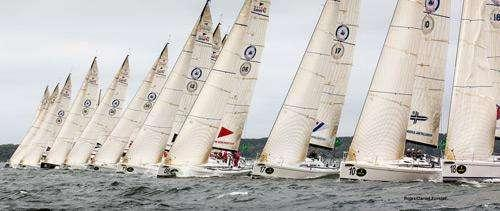fanchuan: (336, 1, 450, 183), (112, 1, 225, 179), (251, 1, 361, 181), (158, 1, 260, 180), (83, 41, 174, 173), (438, 1, 500, 179), (60, 54, 133, 179), (36, 56, 105, 174), (7, 74, 71, 167)
